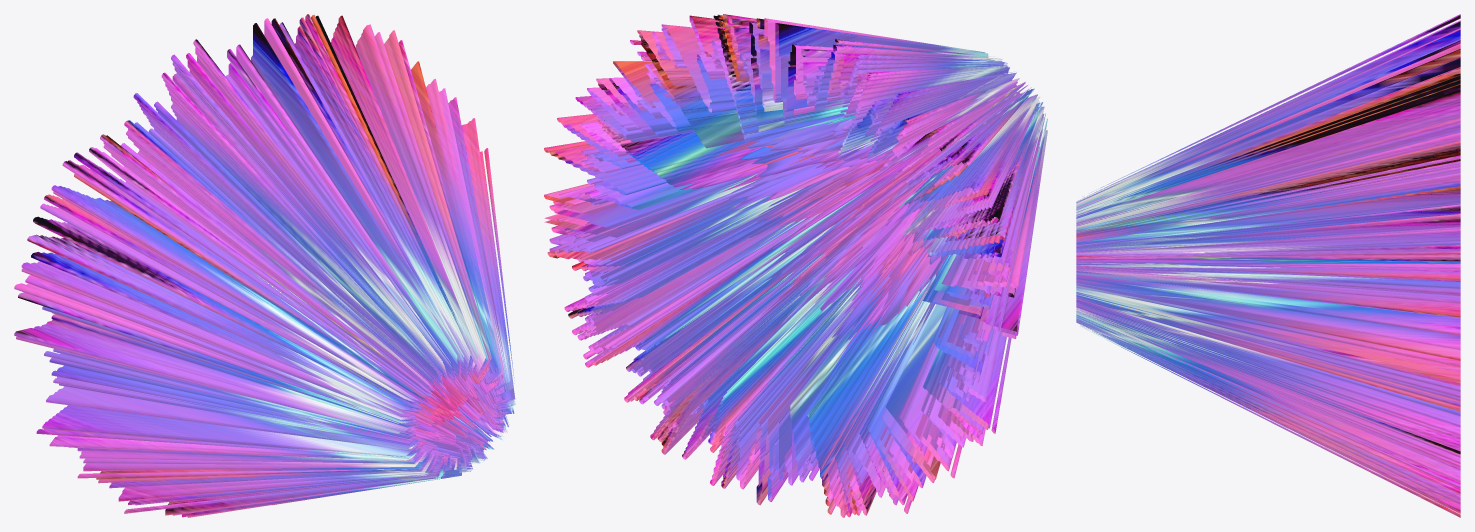
File: COLORED-firework-solid_shadeless-transformed.glb
The picture shows the model from 3 angles, left to right: view 1: azimuth 30°, elevation 25°; view 2: azimuth 150°, elevation 25°; view 3: azimuth 270°, elevation 25°; orthographic projection. The views are drawn at different scales.
Parts seen in each view (by area): view 1: firework-solid; view 2: firework-solid; view 3: firework-solid.
Boxes of the visible parts, <box> form: firework-solid: <box>14,14,515,517</box>; firework-solid: <box>544,14,1047,517</box>; firework-solid: <box>1076,14,1460,517</box>.
Size of the model in its own units: 19.84 by 19.53 by 15.
Materials: 1 (1 with a texture image).
